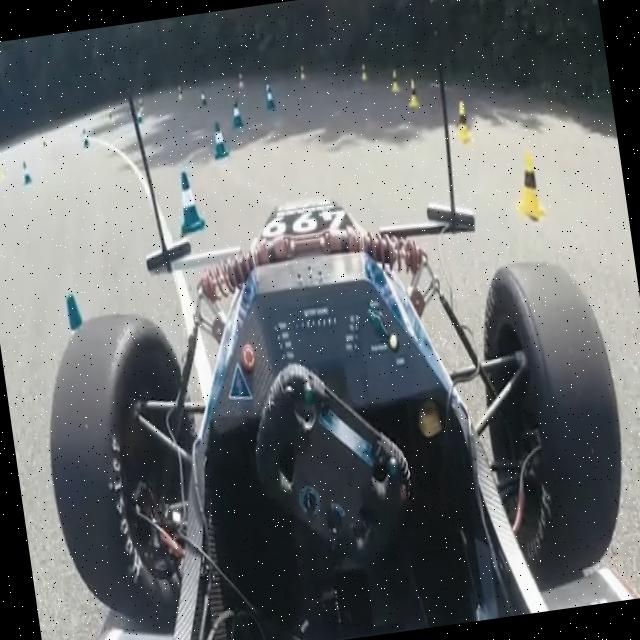blue_cone: (172, 163, 211, 234), (57, 289, 95, 333), (204, 112, 234, 166), (257, 76, 281, 118), (226, 92, 248, 134)
yellow_cone: (510, 152, 548, 226), (452, 97, 474, 152), (403, 73, 425, 120), (386, 62, 403, 92), (356, 58, 374, 84), (296, 61, 312, 89)
